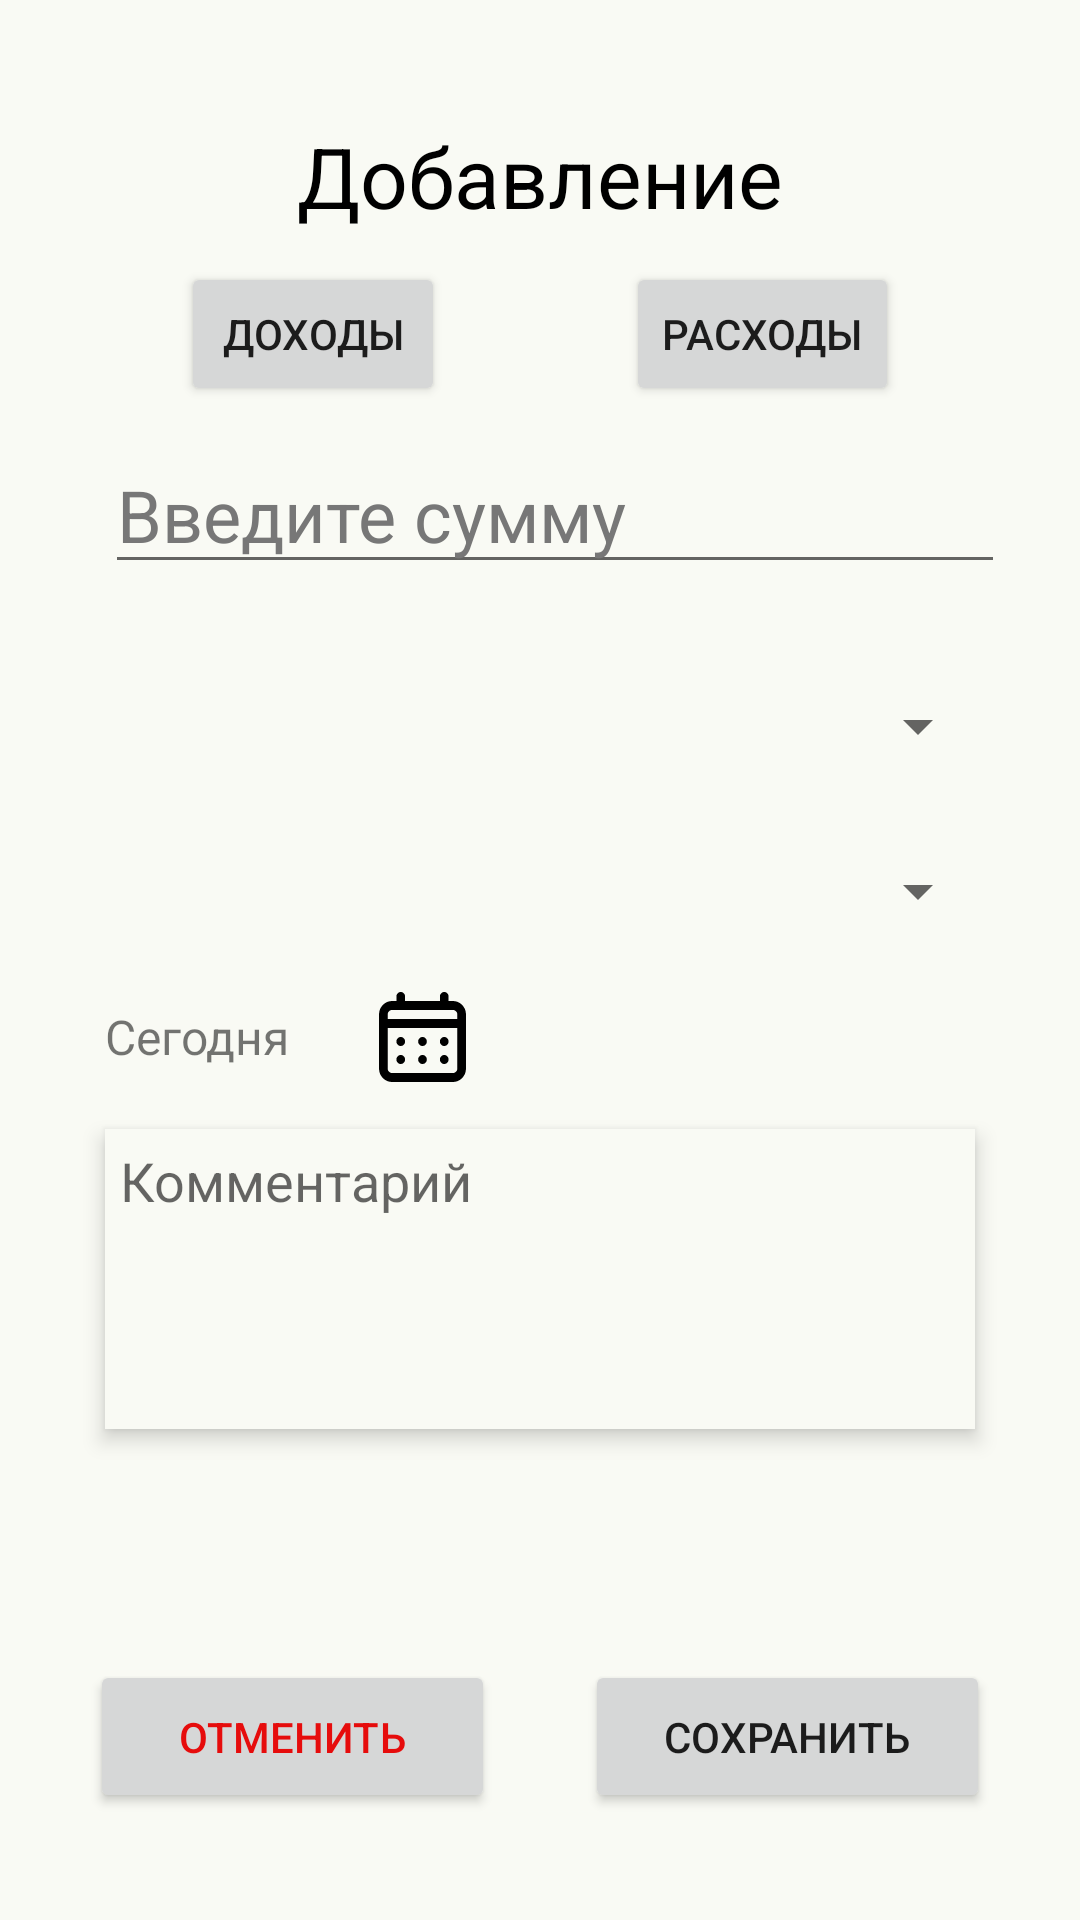

Icons on this 1080px×1920px Android screen, each with the point to tap as [x,y]:
calendar: [422,1037]
